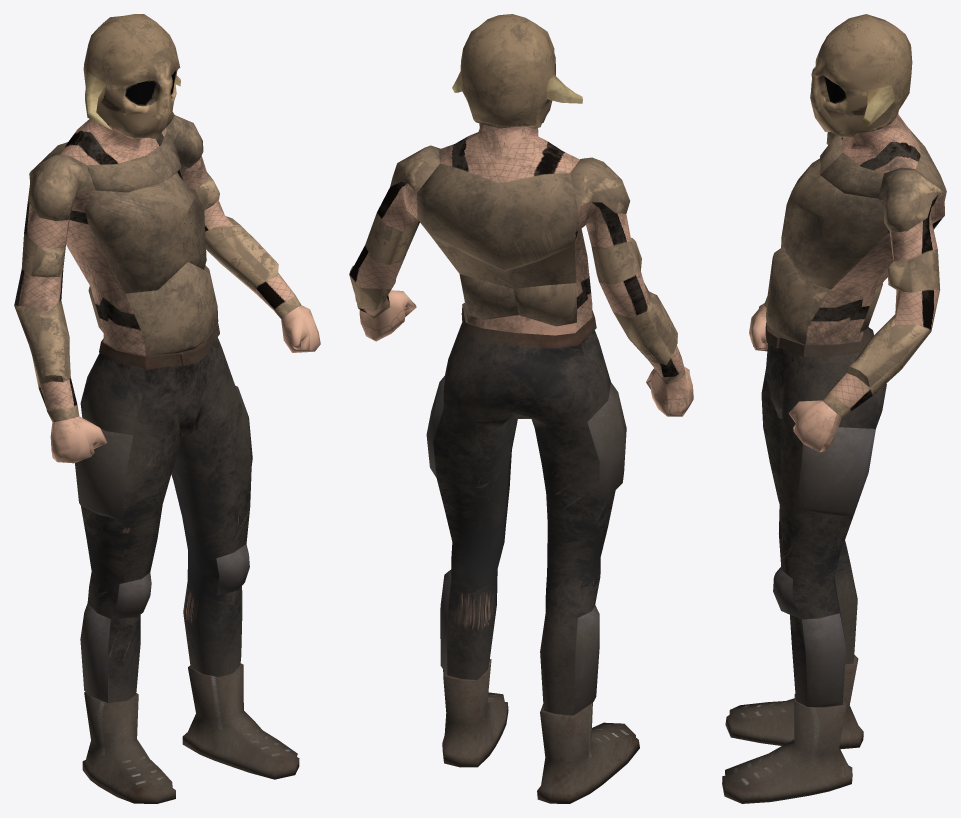
The model's file is Anim_recibirdanyo_npc1.0035.obj.
3 renders of one model, left to right at view 1: azimuth 30°, elevation 25°; view 2: azimuth 150°, elevation 25°; view 3: azimuth 270°, elevation 25°, orthographic. The views are drawn at different scales.
Parts seen in each view (by area): view 1: NPC2; view 2: NPC2; view 3: NPC2.
Part boxes in pixels (x1,y1,x2,y2): NPC2: (14,14,320,803); NPC2: (349,14,693,803); NPC2: (722,14,946,803).
Size of the model in its own units: 3.94 by 9.58 by 2.64.
